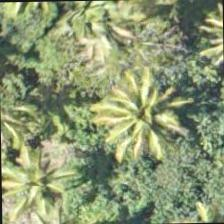Kelapa_Sawit: (107, 70, 199, 162), (89, 78, 181, 170), (0, 139, 81, 223), (160, 176, 223, 223)
